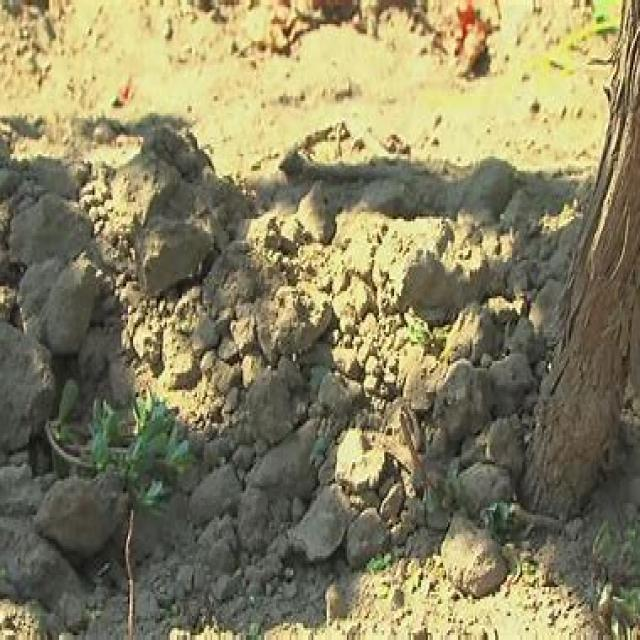Alluvial Soil: (20, 27, 518, 385)
